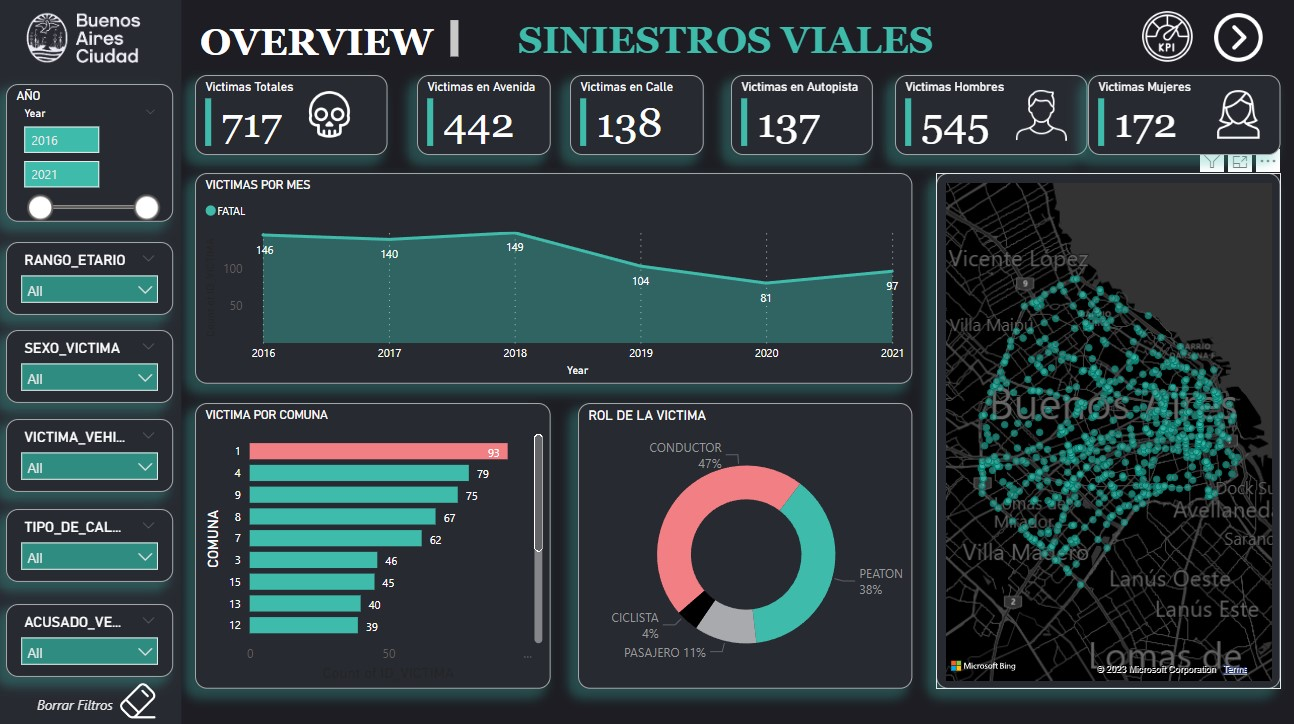

The page's visual inventory and layout, read from the dashboard file:
{"tool":"powerbi","page":{"name":"Page 1","canvas":[1280,720],"ordinal":0},"visuals":[{"type":"lineChart","title":"VICTIMAS POR MES","fields":{"Category":["Siniestros.FECHA.Variation.Date Hierarchy.Month"],"Y":["CountNonNull(Victimas.ID_VICTIMA)"],"Series":["Victimas.GRAVEDAD"]},"box":[193.4,175.7,707.6,208.2],"z":0},{"type":"donutChart","fields":{"Category":["Victimas.ROL_VICTIMA"],"Y":["CountNonNull(Victimas.ID_VICTIMA)"]},"box":[571.4,402.7,329.6,282.3],"z":2},{"type":"map","fields":{"Y":["Siniestros.LATITUD"],"X":["Siniestros.LONGITUD"],"Series":["Victimas.GRAVEDAD"]},"box":[924.7,175.7,340.5,509.2],"z":3},{"type":"clusteredBarChart","title":"VICTIMA POR COMUNA","fields":{"Y":["CountNonNull(Victimas.ID_VICTIMA)"],"Category":["Siniestros.COMUNA"]},"box":[193.4,402.7,351.3,282.3],"z":4},{"type":"shape","box":[0,0,179.6,720.4],"z":5},{"type":"textbox","box":[193.4,9.9,265.5,49.3],"z":6},{"type":"slicer","fields":{"Values":["Victimas.FECHA.Variation.Date Hierarchy.Month"]},"box":[6.9,139.2,164.8,72],"z":7},{"type":"slicer","fields":{"Values":["Victimas.FECHA.Variation.Date Hierarchy.Year"]},"box":[6.9,236.9,164.8,72],"z":8},{"type":"slicer","fields":{"Values":["Victimas.RANGO_ETARIO"]},"box":[6.9,330.6,164.8,72],"z":9},{"type":"slicer","fields":{"Values":["Victimas.SEXO_VICTIMA"]},"box":[6.9,430.3,164.8,72],"z":10},{"type":"slicer","fields":{"Values":["Victimas.VEHICULO_VICTIMA"]},"box":[6.9,525,164.8,72],"z":11},{"type":"slicer","fields":{"Values":["Siniestros.COMUNA"]},"box":[6.9,612.9,164.8,72],"z":12},{"type":"image","box":[40.5,34.5,79.9,73],"z":14},{"type":"multiRowCard","title":"Victimas","fields":{"Values":["Count(Victimas.ID_VICTIMA)"]},"box":[193.4,79,190.5,79],"z":15},{"type":"image","box":[321.7,107.6,47.4,47.4],"z":16},{"type":"multiRowCard","title":"Victimas","fields":{"Values":["Count(Victimas.ID_VICTIMA)"]},"box":[409.6,79,400.7,79],"z":17},{"type":"multiRowCard","title":"Victimas","fields":{"Values":["Count(Victimas.ID_VICTIMA)"]},"box":[844.8,79,190.5,79],"z":18},{"type":"multiRowCard","title":"Victimas","fields":{"Values":["Count(Victimas.ID_VICTIMA)"]},"box":[1074.7,79,190.5,79],"z":19}]}

Visuals, with their boxes in screenshot pixels (x1, y1, x2, y2), scaled from the page's 1280x720 canvas onto the 1294x724 screenshot:
"VICTIMAS POR MES" lineChart: {"x1": 196, "y1": 177, "x2": 911, "y2": 386}
donutChart - Victimas.ROL_VICTIMA x CountNonNull(Victimas.ID_VICTIMA): {"x1": 578, "y1": 405, "x2": 911, "y2": 689}
map - Siniestros.LATITUD x Siniestros.LONGITUD: {"x1": 935, "y1": 177, "x2": 1279, "y2": 689}
"VICTIMA POR COMUNA" clusteredBarChart: {"x1": 196, "y1": 405, "x2": 551, "y2": 689}
shape: {"x1": 0, "y1": 0, "x2": 182, "y2": 723}
textbox: {"x1": 196, "y1": 10, "x2": 464, "y2": 60}
slicer - Victimas.FECHA.Variation.Date Hierarchy.Month: {"x1": 7, "y1": 140, "x2": 174, "y2": 212}
slicer - Victimas.FECHA.Variation.Date Hierarchy.Year: {"x1": 7, "y1": 238, "x2": 174, "y2": 311}
slicer - Victimas.RANGO_ETARIO: {"x1": 7, "y1": 332, "x2": 174, "y2": 405}
slicer - Victimas.SEXO_VICTIMA: {"x1": 7, "y1": 433, "x2": 174, "y2": 505}
slicer - Victimas.VEHICULO_VICTIMA: {"x1": 7, "y1": 528, "x2": 174, "y2": 600}
slicer - Siniestros.COMUNA: {"x1": 7, "y1": 616, "x2": 174, "y2": 689}
image: {"x1": 41, "y1": 35, "x2": 122, "y2": 108}
"Victimas" multiRowCard: {"x1": 196, "y1": 79, "x2": 388, "y2": 159}
image: {"x1": 325, "y1": 108, "x2": 373, "y2": 156}
"Victimas" multiRowCard: {"x1": 414, "y1": 79, "x2": 819, "y2": 159}
"Victimas" multiRowCard: {"x1": 854, "y1": 79, "x2": 1047, "y2": 159}
"Victimas" multiRowCard: {"x1": 1086, "y1": 79, "x2": 1279, "y2": 159}
